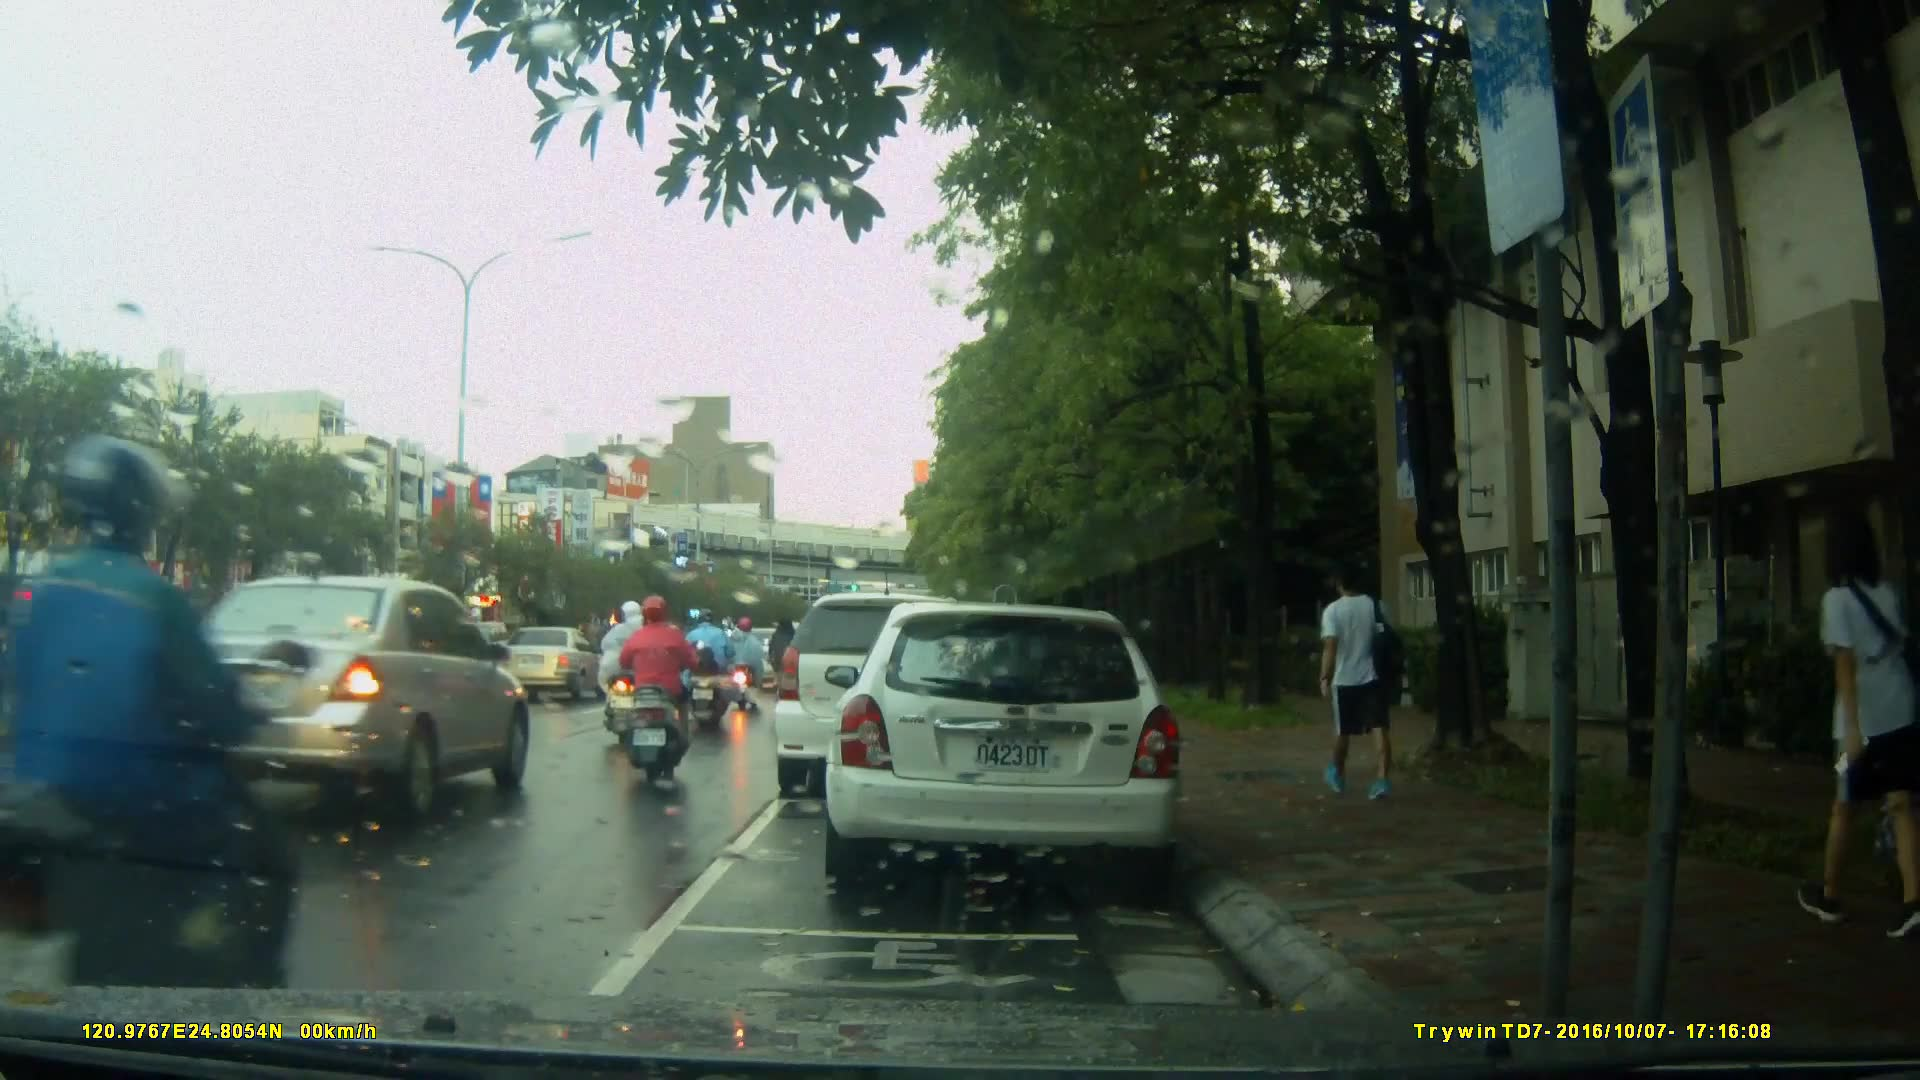pedestrian: (1797, 502, 1915, 940), (1314, 555, 1406, 813)
rider: (7, 427, 296, 1048), (608, 596, 691, 793), (607, 603, 658, 751), (682, 609, 740, 733), (730, 614, 770, 713), (772, 610, 806, 723)
vehicle: (822, 604, 1188, 882), (153, 574, 532, 824), (774, 595, 995, 802), (492, 624, 610, 706)
